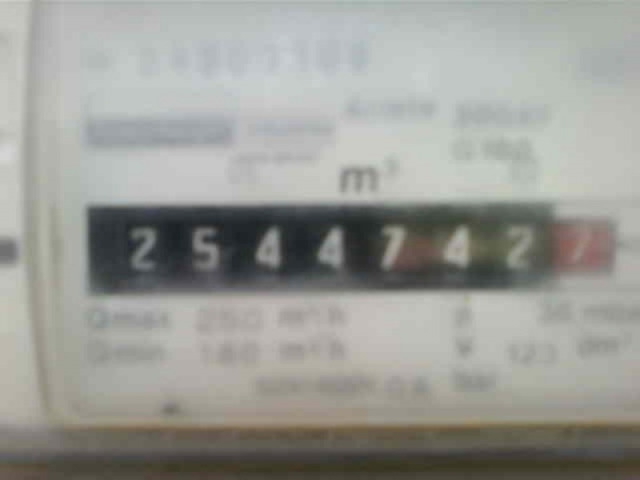ssgc: (84, 201, 629, 291)
